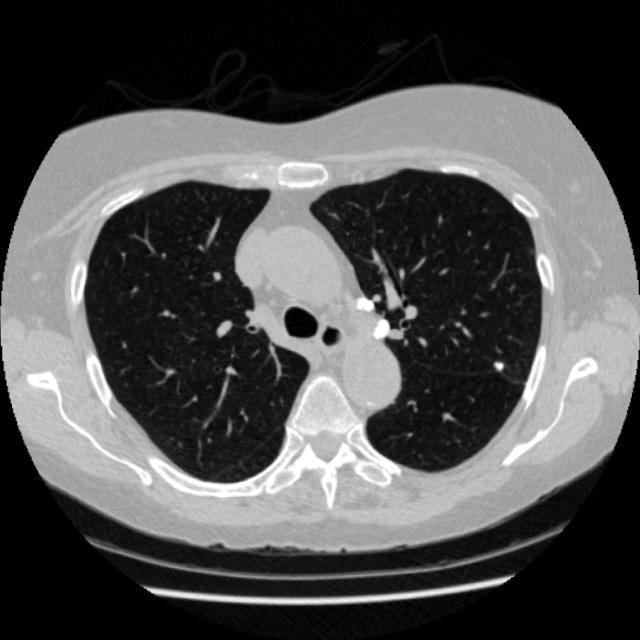nodule: (483, 349, 511, 377)
